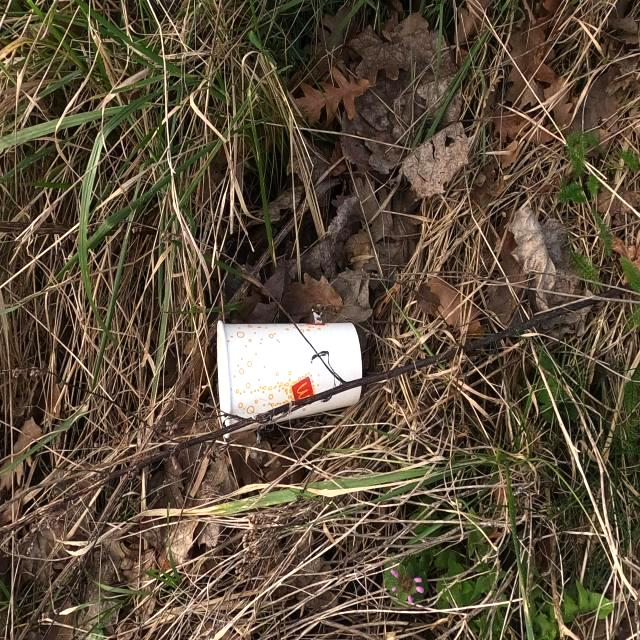Coffee Cup: (206, 311, 368, 441)
